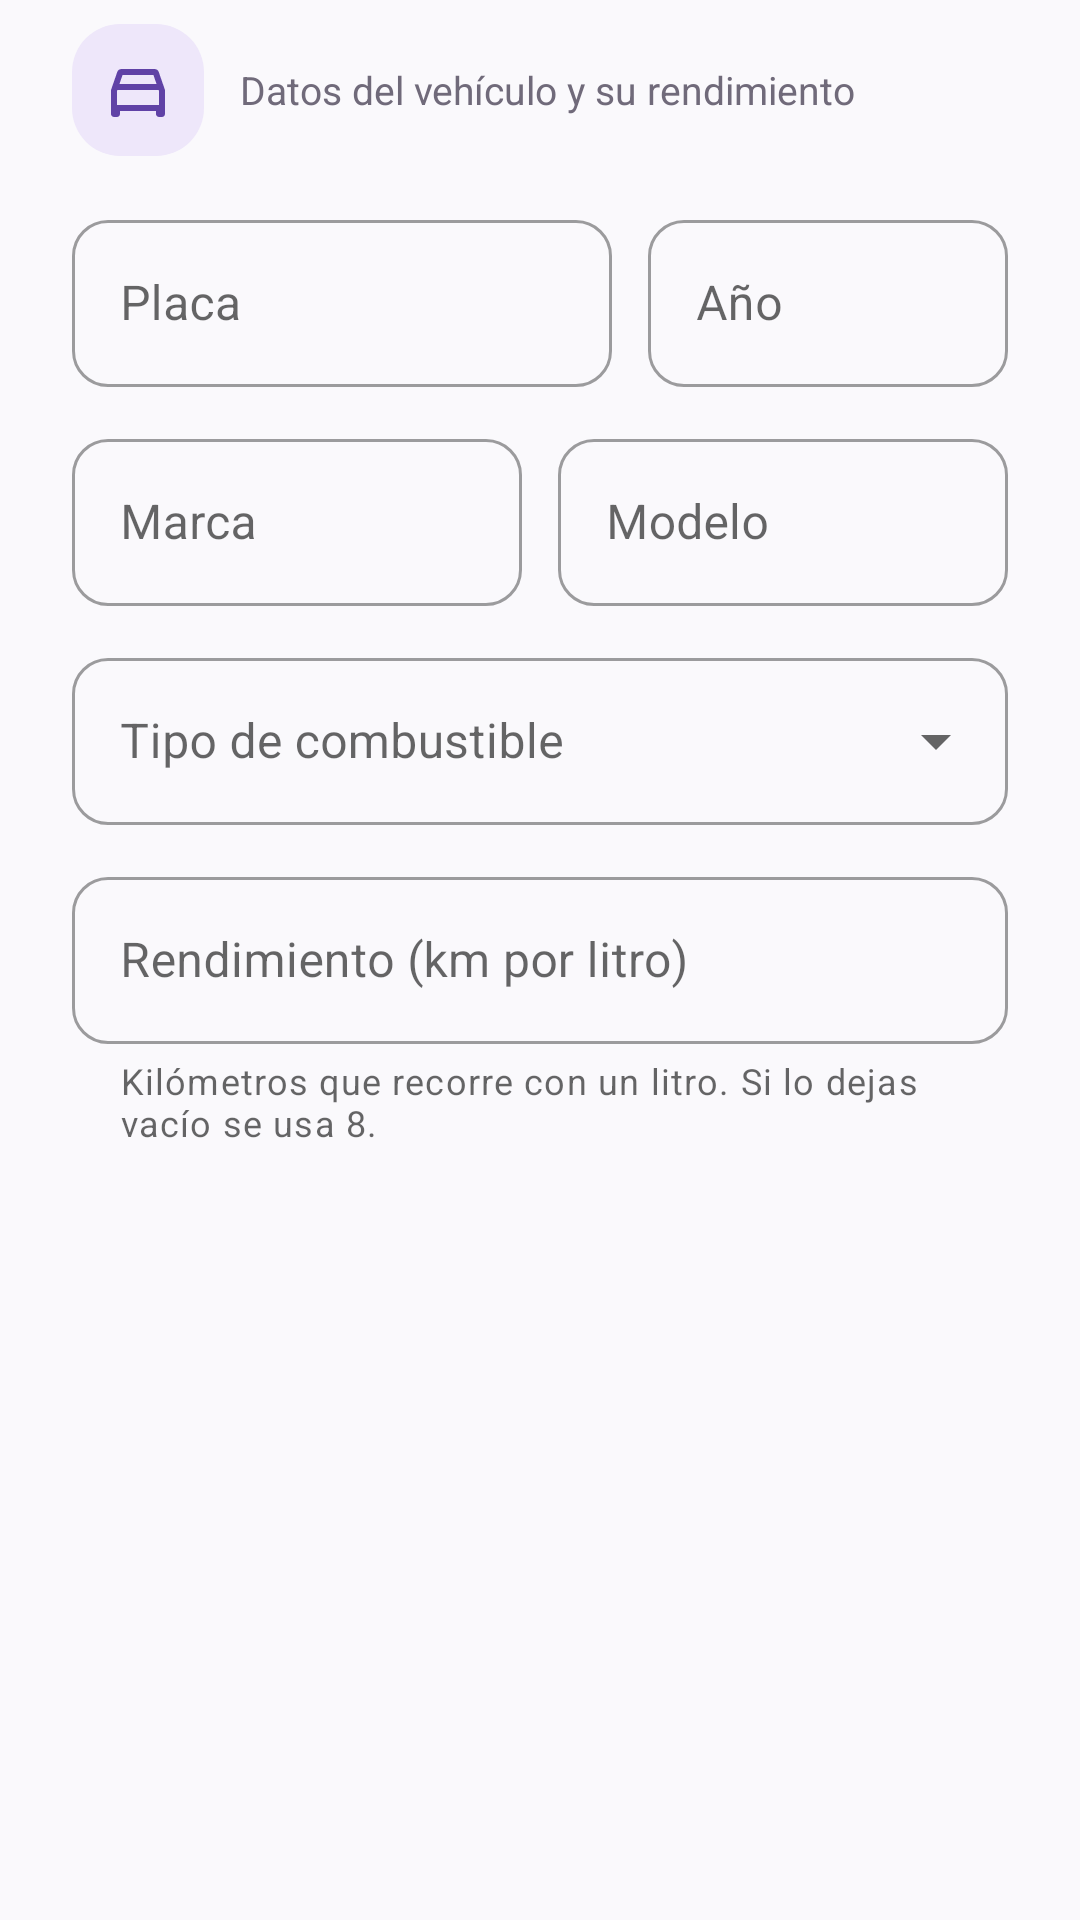

Locate icon controls on the screen. Image size 1080x1920, boxes as (x1, y1, x2, y2).
vehiculo: (111, 69, 165, 117)
